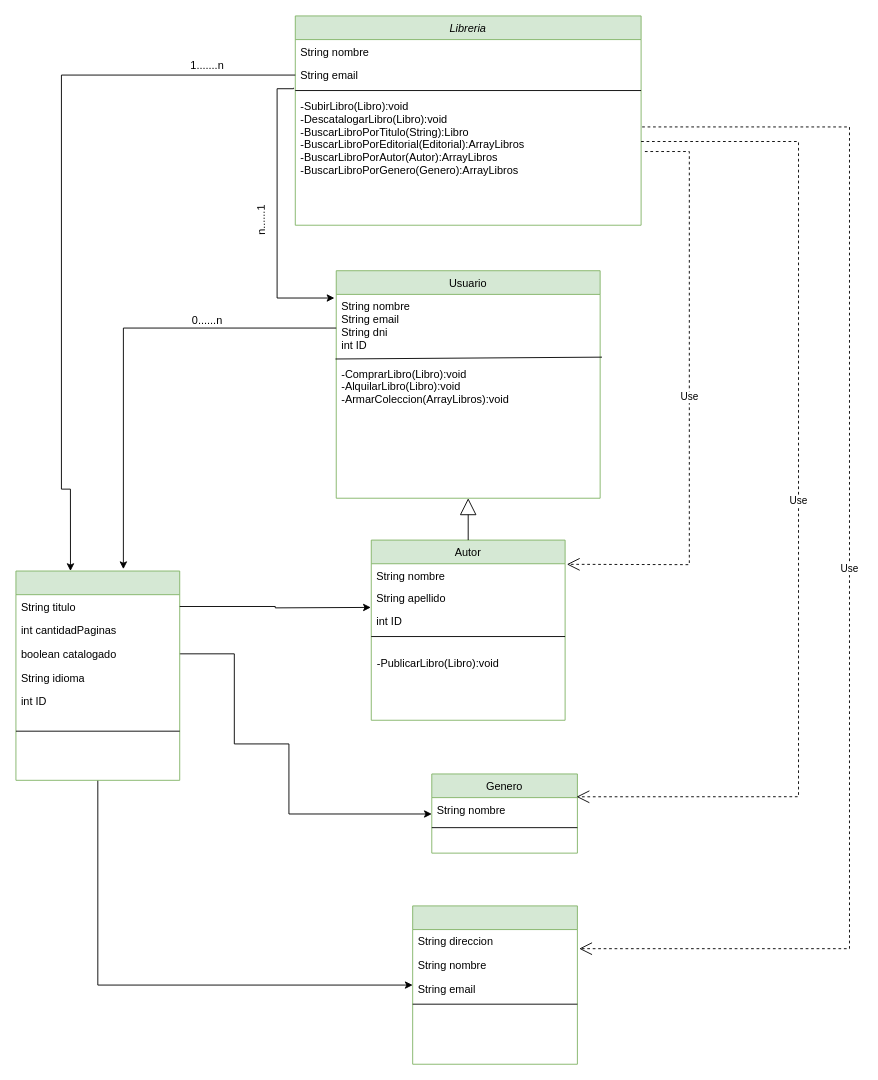
Image size: 878x1080. Some labels were removed from this diagram. Each missing label, with the box of its shape:
Editorial: (412, 905, 577, 1064)
Libro: (15, 570, 180, 780)
